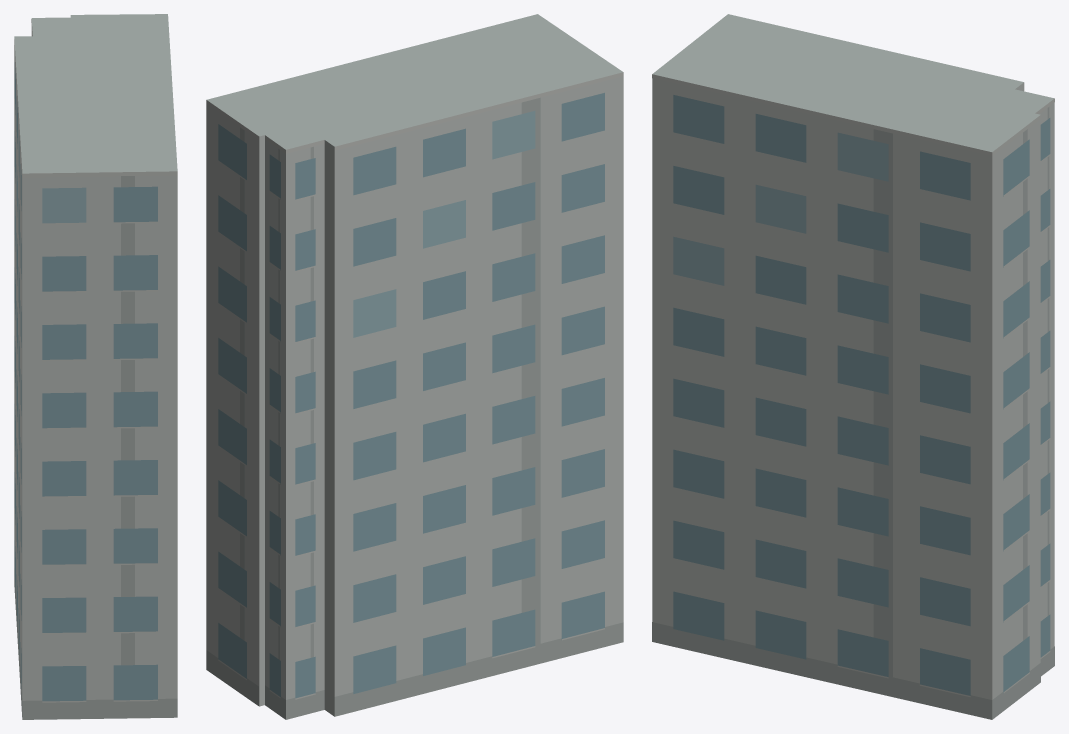
Rendered from survey-upis-32825624.glb.
The picture shows the model from 3 angles, left to right: view 1: azimuth 30°, elevation 25°; view 2: azimuth 150°, elevation 25°; view 3: azimuth 270°, elevation 25°; orthographic projection. The views are drawn at different scales.
Parts seen in each view (by area): view 1: survey-upis-32825624.tmp; view 2: survey-upis-32825624.tmp; view 3: survey-upis-32825624.tmp.
Boxes of the visible parts, x1,y1,x2,y2 form: survey-upis-32825624.tmp: [14, 14, 177, 719]; survey-upis-32825624.tmp: [206, 14, 623, 719]; survey-upis-32825624.tmp: [652, 14, 1054, 719].
Size of the model in its own units: 17.77 by 34.01 by 21.87.
